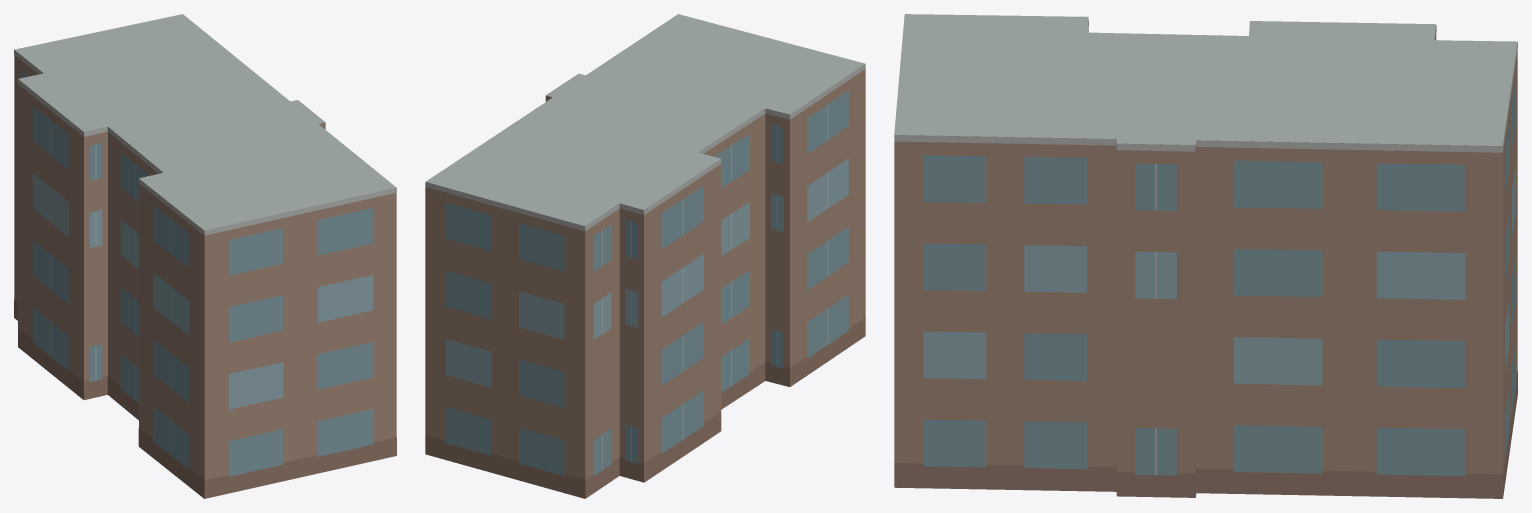
Rendered from survey-upis-32703094.glb.
3 views of the same model, side by side, from view 1: azimuth 30°, elevation 25°; view 2: azimuth 150°, elevation 25°; view 3: azimuth 270°, elevation 25° (orthographic). The views are drawn at different scales.
Visible parts, largest first — view 1: survey-upis-32703094.tmp; view 2: survey-upis-32703094.tmp; view 3: survey-upis-32703094.tmp.
Boxes of the visible parts, <box> form: survey-upis-32703094.tmp: <box>14,14,396,498</box>; survey-upis-32703094.tmp: <box>425,14,865,498</box>; survey-upis-32703094.tmp: <box>894,14,1517,498</box>.
Bounding box in the file's own units: 10.47 × 13.03 × 20.89.
